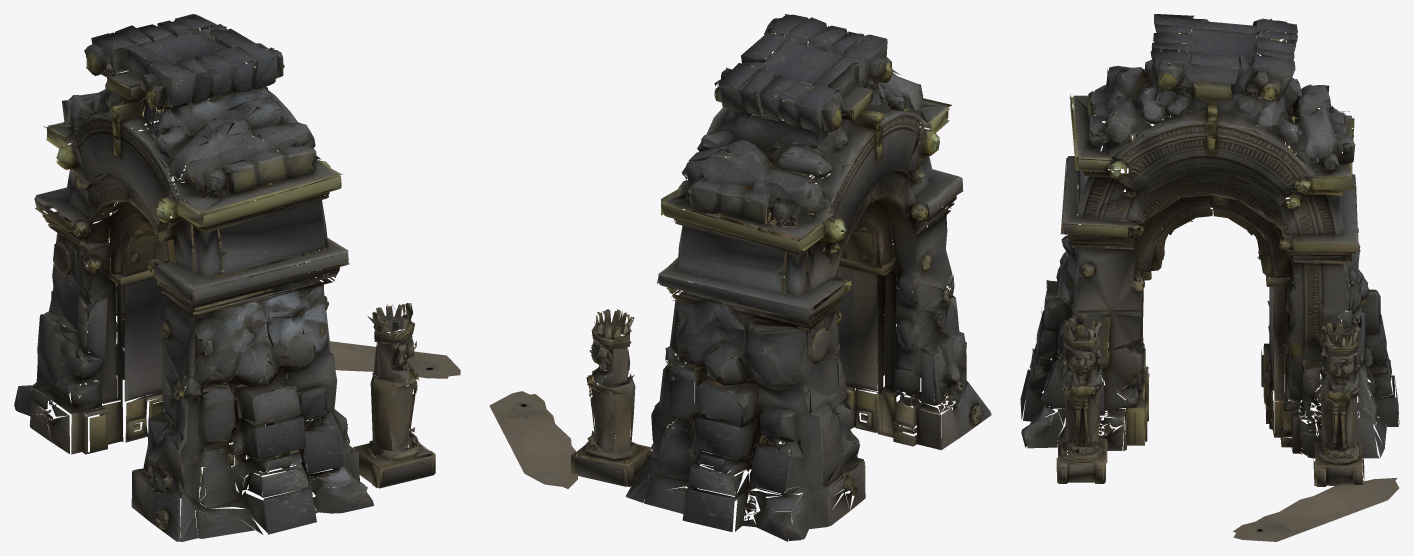
File: ch9_heart_road_gatehouse_LOD1.glb
3 renders of one model, left to right at view 1: azimuth 30°, elevation 25°; view 2: azimuth 150°, elevation 25°; view 3: azimuth 270°, elevation 25°, orthographic. The views are drawn at different scales.
Visible parts, largest first — view 1: tripo_node_02046ff7-a25d-4909-9d04-008ae5d3b636; view 2: tripo_node_02046ff7-a25d-4909-9d04-008ae5d3b636; view 3: tripo_node_02046ff7-a25d-4909-9d04-008ae5d3b636.
Part boxes in pixels (bbox=[...]): tripo_node_02046ff7-a25d-4909-9d04-008ae5d3b636: bbox=[14, 14, 460, 541]; tripo_node_02046ff7-a25d-4909-9d04-008ae5d3b636: bbox=[489, 14, 991, 541]; tripo_node_02046ff7-a25d-4909-9d04-008ae5d3b636: bbox=[1020, 14, 1399, 541].
Bounding box in the file's own units: 1 × 1.01 × 0.9043.
Materials: 1 (1 with a texture image).
